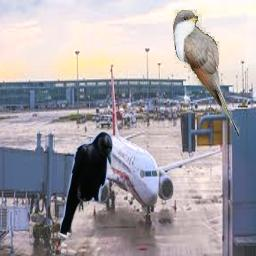Crow: (60, 131, 113, 239)
Cuckoo: (173, 9, 240, 139)
